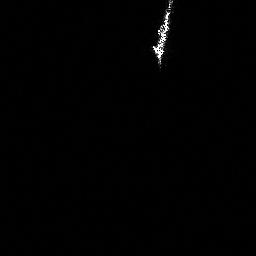ship: (148, 1, 177, 68)
